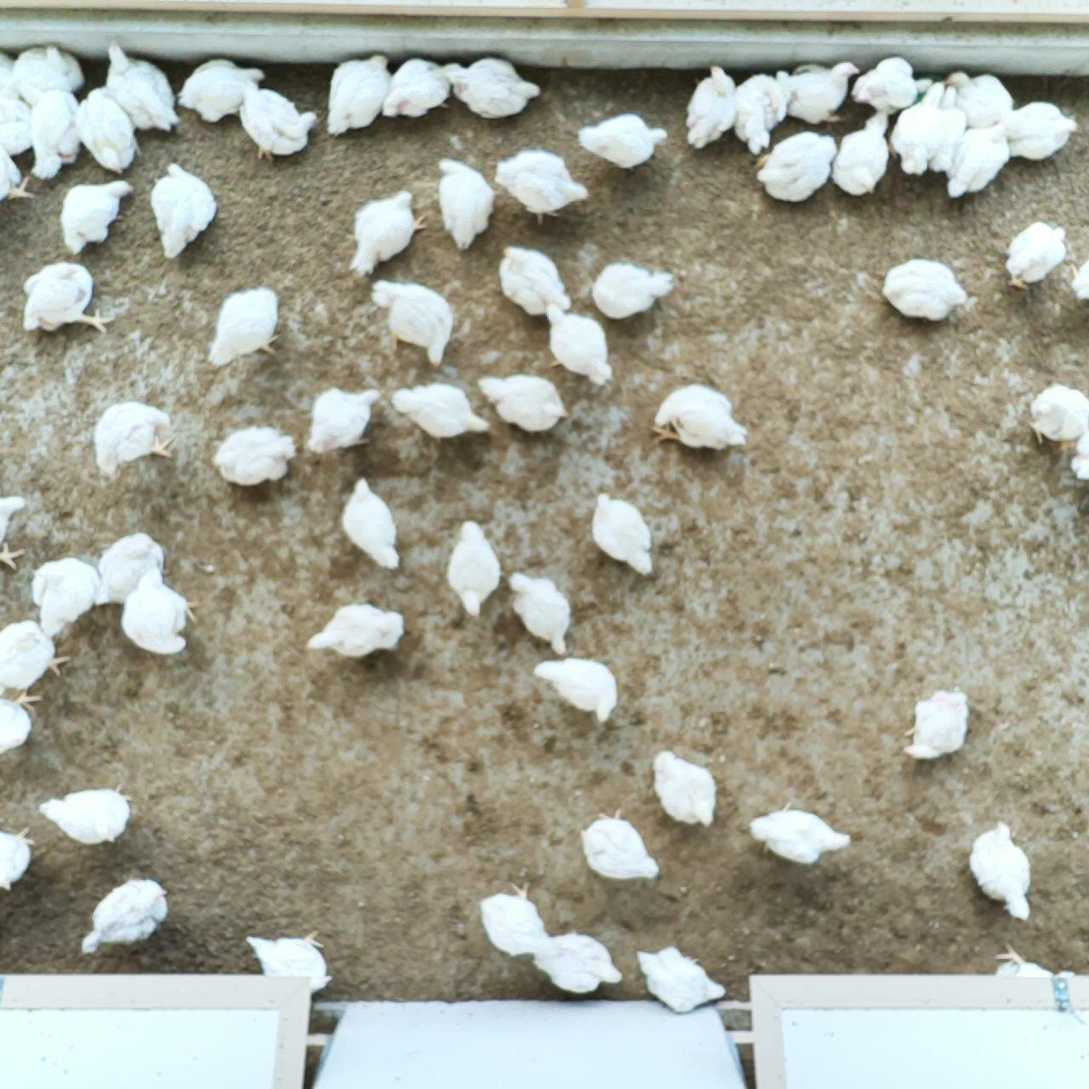chicken: (491, 145, 593, 227), (745, 797, 855, 871), (19, 258, 119, 339), (369, 277, 455, 371), (102, 34, 181, 135), (345, 186, 430, 278), (79, 876, 173, 959), (965, 815, 1037, 923), (148, 160, 220, 264), (752, 124, 842, 207), (646, 381, 751, 452), (538, 298, 619, 390), (575, 803, 664, 886), (119, 565, 199, 657), (633, 940, 728, 1017), (235, 80, 318, 165), (204, 284, 283, 372), (16, 77, 81, 183), (92, 399, 178, 479), (438, 55, 542, 121), (36, 781, 135, 850), (322, 50, 395, 143), (878, 255, 969, 328), (489, 241, 576, 317), (301, 600, 409, 661), (475, 370, 571, 438), (387, 381, 494, 442), (244, 926, 335, 997), (29, 553, 104, 639), (177, 55, 269, 125), (443, 513, 503, 620), (531, 656, 624, 725), (339, 475, 405, 572), (648, 747, 722, 833), (434, 153, 497, 254), (573, 109, 672, 173), (58, 177, 137, 257), (533, 927, 624, 996), (504, 567, 574, 656), (75, 86, 143, 177), (209, 421, 300, 489), (589, 489, 659, 577), (93, 527, 167, 609), (477, 877, 550, 960), (899, 683, 972, 764), (588, 256, 677, 321), (775, 58, 861, 125), (831, 109, 893, 200), (946, 120, 1013, 203), (304, 385, 383, 455), (887, 81, 945, 175), (1000, 98, 1081, 163), (1002, 220, 1074, 292), (0, 619, 72, 690), (682, 62, 738, 153), (381, 54, 454, 121), (12, 42, 88, 106), (736, 69, 789, 155), (943, 67, 1015, 130), (850, 55, 921, 116), (1028, 380, 1089, 448), (992, 937, 1077, 983), (928, 84, 969, 175), (0, 686, 44, 759), (0, 824, 37, 892), (0, 493, 31, 573), (0, 141, 37, 205), (0, 95, 34, 157), (0, 48, 21, 99), (1069, 259, 1089, 304)
